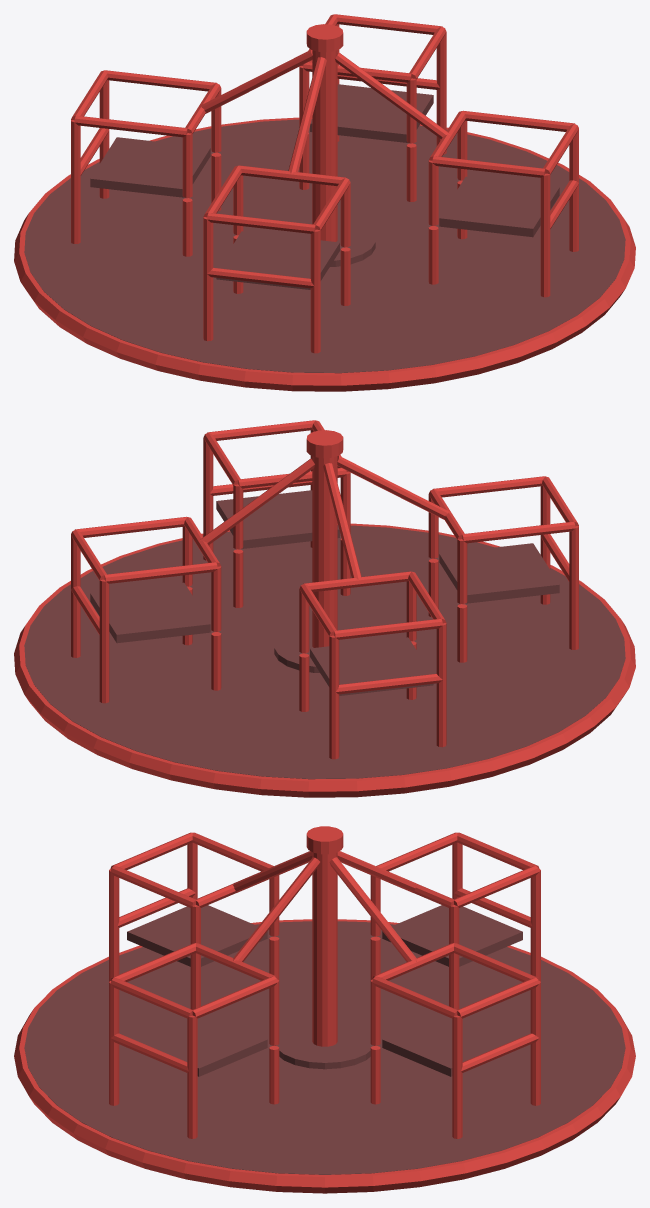
Rendered from carousel_top.glb.
3 views of the same model, one above another, from view 1: azimuth 30°, elevation 25°; view 2: azimuth 150°, elevation 25°; view 3: azimuth 270°, elevation 25° (orthographic).
Parts seen in each view (by area): view 1: CarouselTop; view 2: CarouselTop; view 3: CarouselTop.
Boxes of the visible parts, x1=… form: CarouselTop: x1=14, y1=14, x2=635, y2=391; CarouselTop: x1=14, y1=420, x2=635, y2=797; CarouselTop: x1=14, y1=826, x2=635, y2=1193.
Bounding box in the file's own units: 2.69 × 1.1 × 2.69.
